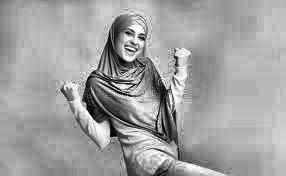happy: (113, 16, 152, 70)
